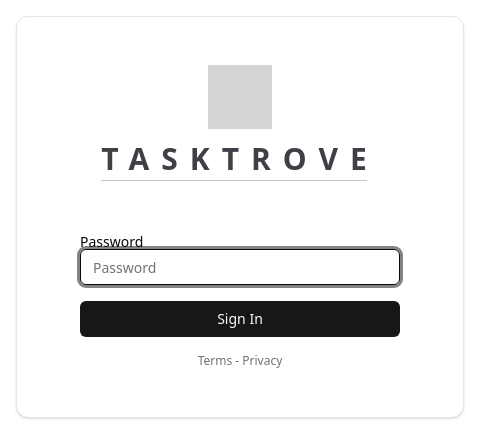
Test: LoginForm › Rendering › shows EyeOff icon when password is visible
Type "test" into the password field with placeholder "Password" at (240, 267), box [80,249,400,285]
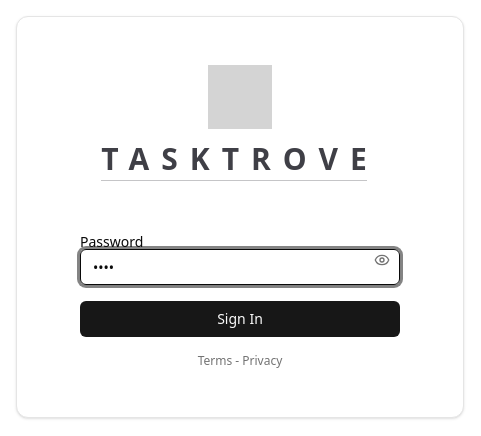
Click the button named "Show password" at (382, 260), box [364,235,400,285]
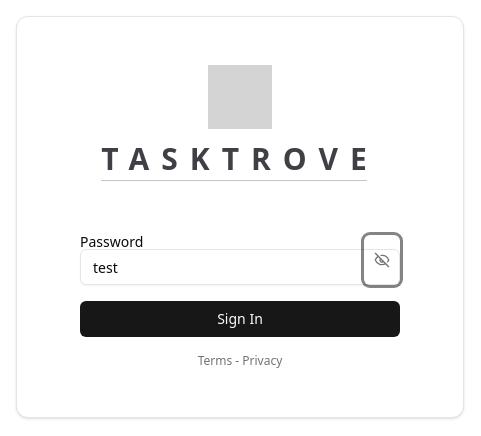
Result: the icon with class "lucide-eye-off" is shown at [374,252,390,268]
